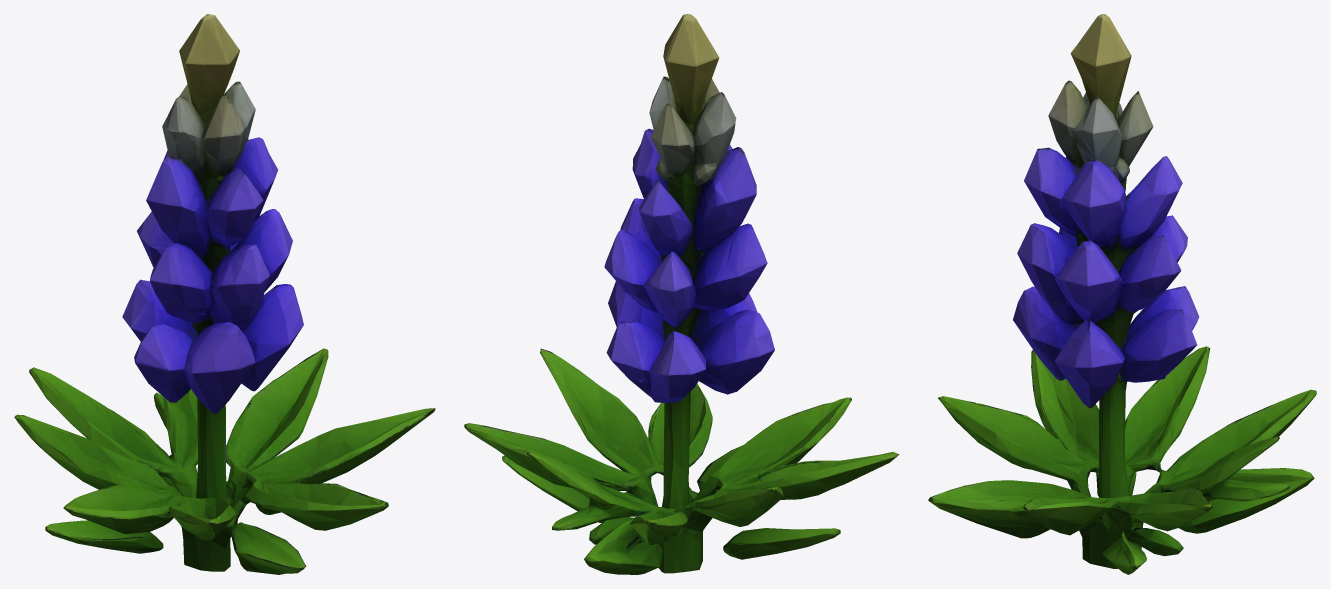
The model's file is desert_lupine.glb.
3 renders of one model, left to right at view 1: azimuth 30°, elevation 25°; view 2: azimuth 150°, elevation 25°; view 3: azimuth 270°, elevation 25°, orthographic.
Visible parts, largest first — view 1: world; view 2: world; view 3: world.
Part boxes in pixels (<box>): world: <box>14,14,435,574</box>; world: <box>464,14,899,574</box>; world: <box>928,14,1316,574</box>.
Bounding box in the file's own units: 0.6938 × 0.9991 × 0.6488.
1 material, 1 textured.
